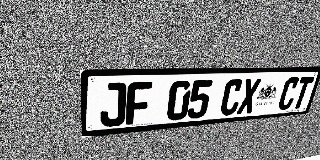0: (166, 80, 192, 121)
5: (187, 80, 213, 119)
C: (219, 79, 244, 116), (276, 77, 301, 111)
F: (126, 82, 152, 125)
J: (100, 82, 127, 128)
T: (291, 77, 314, 109)
X: (236, 78, 261, 114)
